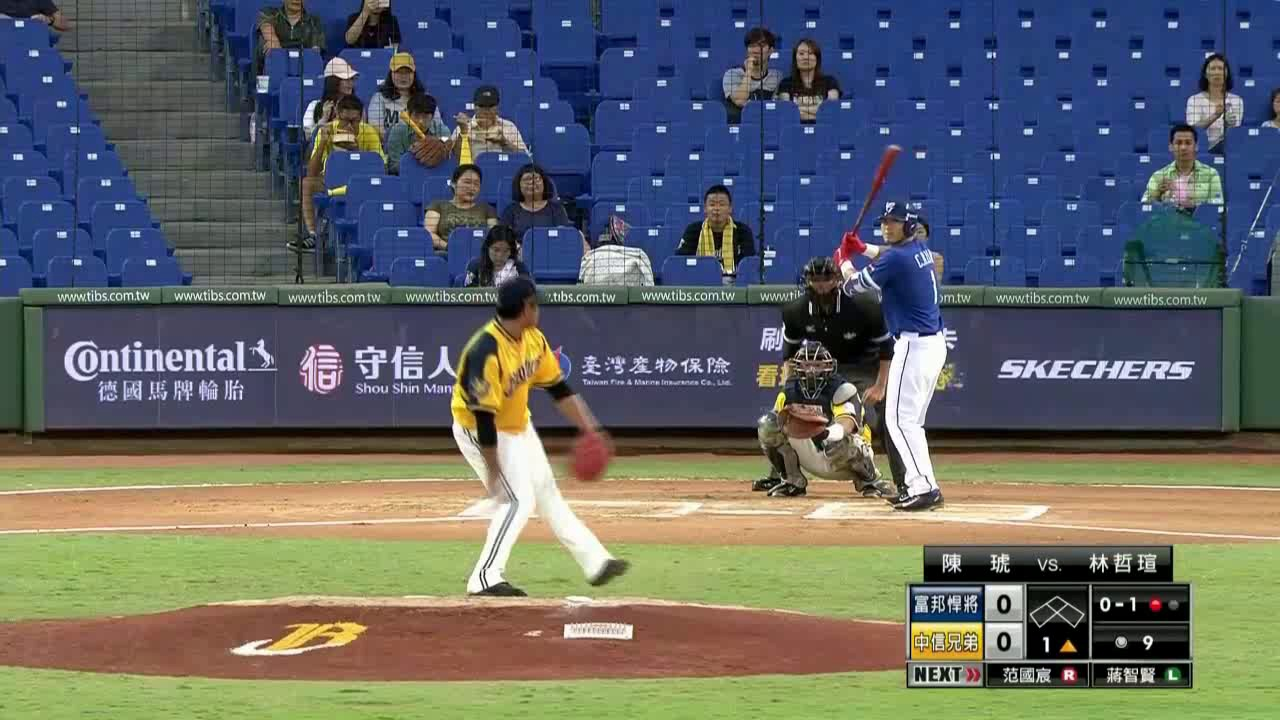ball: (477, 499, 491, 510)
base: (1029, 591, 1087, 630)
bat: (847, 148, 895, 235)
out: (1144, 593, 1182, 615)
score1: (987, 590, 1016, 618)
score2: (987, 627, 1021, 657)
session: (1033, 633, 1085, 661)
strikeball: (1093, 593, 1141, 617)
total: (1107, 630, 1159, 656)
